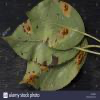Apple rust leaf: (23, 1, 92, 50), (20, 48, 95, 91), (5, 23, 85, 62)
